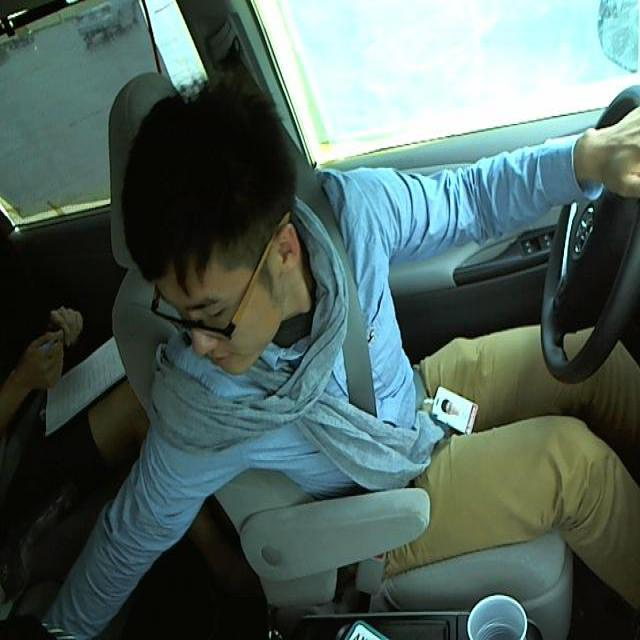seatbelt: (301, 218, 438, 546)
